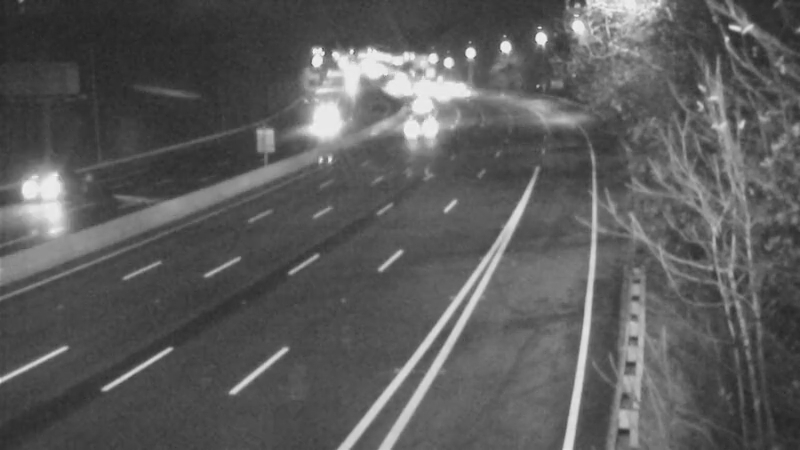vehicle: (1, 149, 79, 229), (395, 79, 445, 129), (397, 100, 447, 150), (309, 89, 359, 139)
